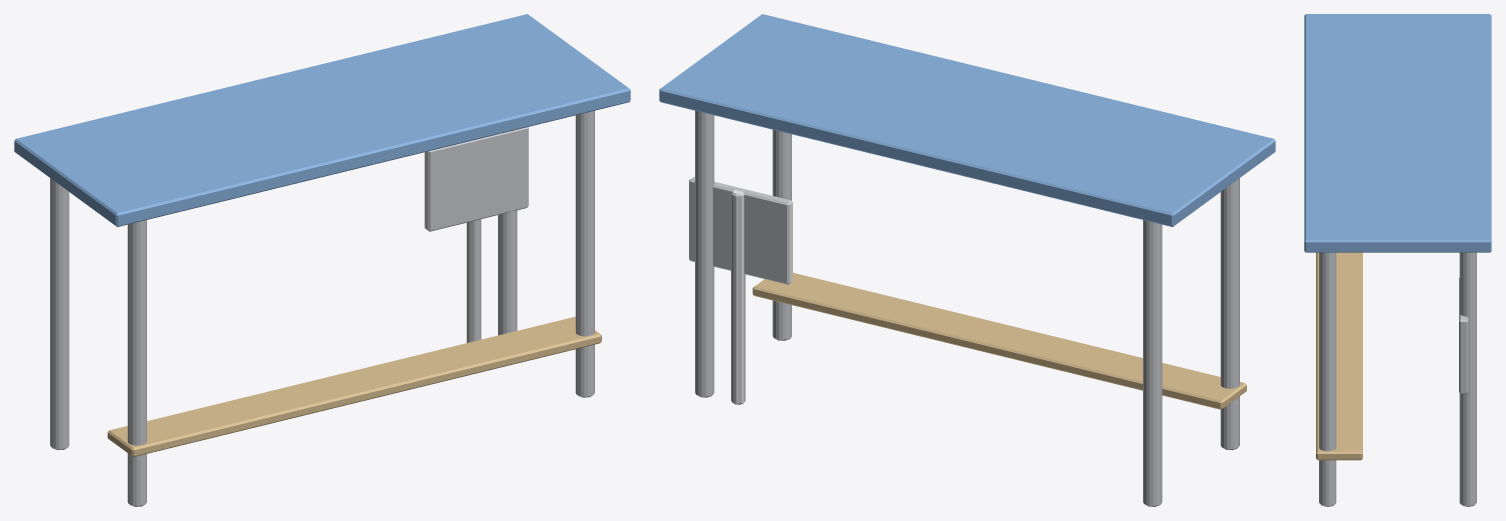
File: 街道_候车亭_01.fbx
3 renders of one model, left to right at view 1: azimuth 30°, elevation 25°; view 2: azimuth 150°, elevation 25°; view 3: azimuth 270°, elevation 25°, orthographic. The views are drawn at different scales.
Visible parts, largest first — view 1: 顶棚, 立柱.001, 座椅, 站牌; view 2: 顶棚, 立柱.001, 座椅, 站牌; view 3: 顶棚, 立柱.001, 座椅, 站牌.
Boxes of the visible parts, x1,y1,x2,y2 form: 顶棚: [14, 14, 630, 226]; 立柱.001: [50, 110, 594, 506]; 座椅: [107, 316, 601, 456]; 站牌: [424, 127, 528, 342]; 顶棚: [659, 14, 1275, 226]; 立柱.001: [695, 110, 1239, 506]; 座椅: [752, 272, 1246, 409]; 站牌: [689, 176, 792, 404]; 顶棚: [1304, 14, 1491, 252]; 立柱.001: [1319, 252, 1476, 506]; 座椅: [1316, 252, 1362, 460]; 站牌: [1459, 278, 1468, 393].
Bounding box in the file's own units: 460 × 262 × 160.
